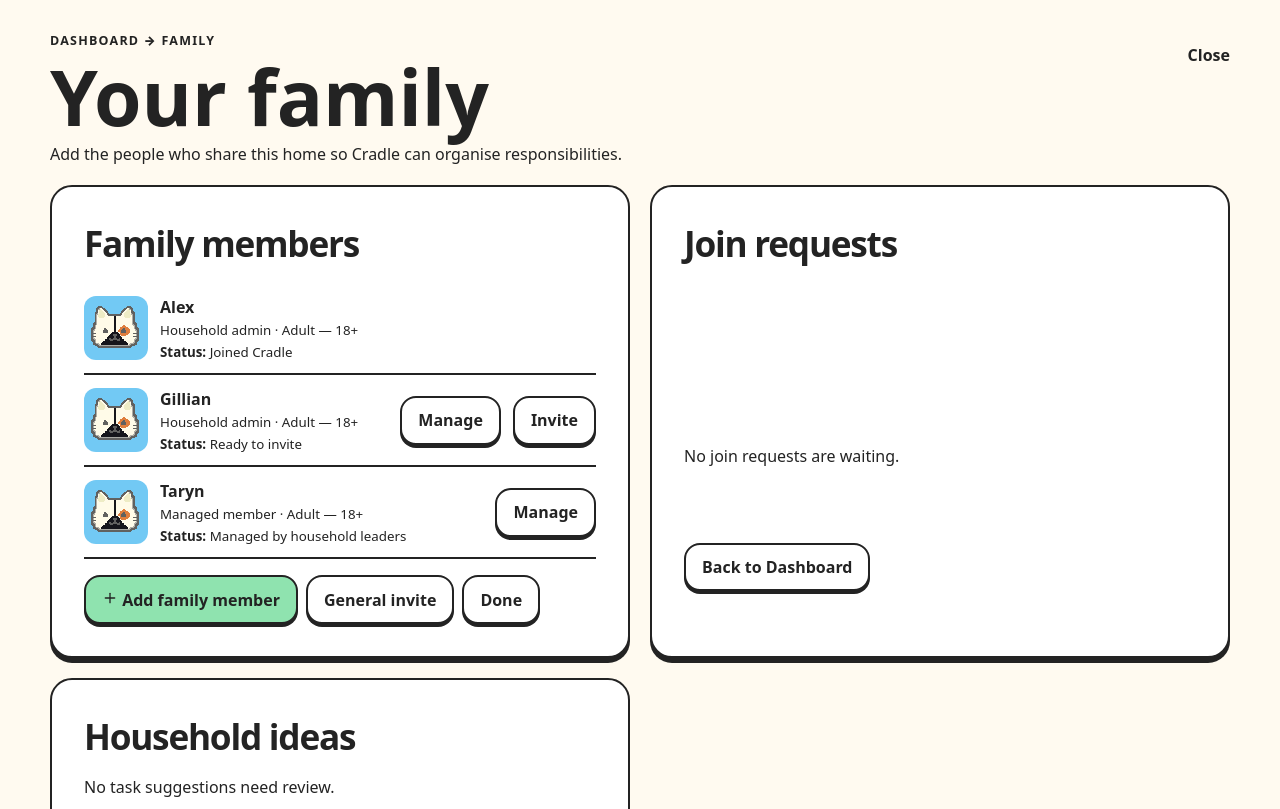
Scenario: family and personal user journeys › presents Add family member permissions as accessible selectable cards
What coordinates should you click on to do the following:
click the button "Add family member"
I would click on:
 (191, 600)
Its box is 84,575 -> 298,624.
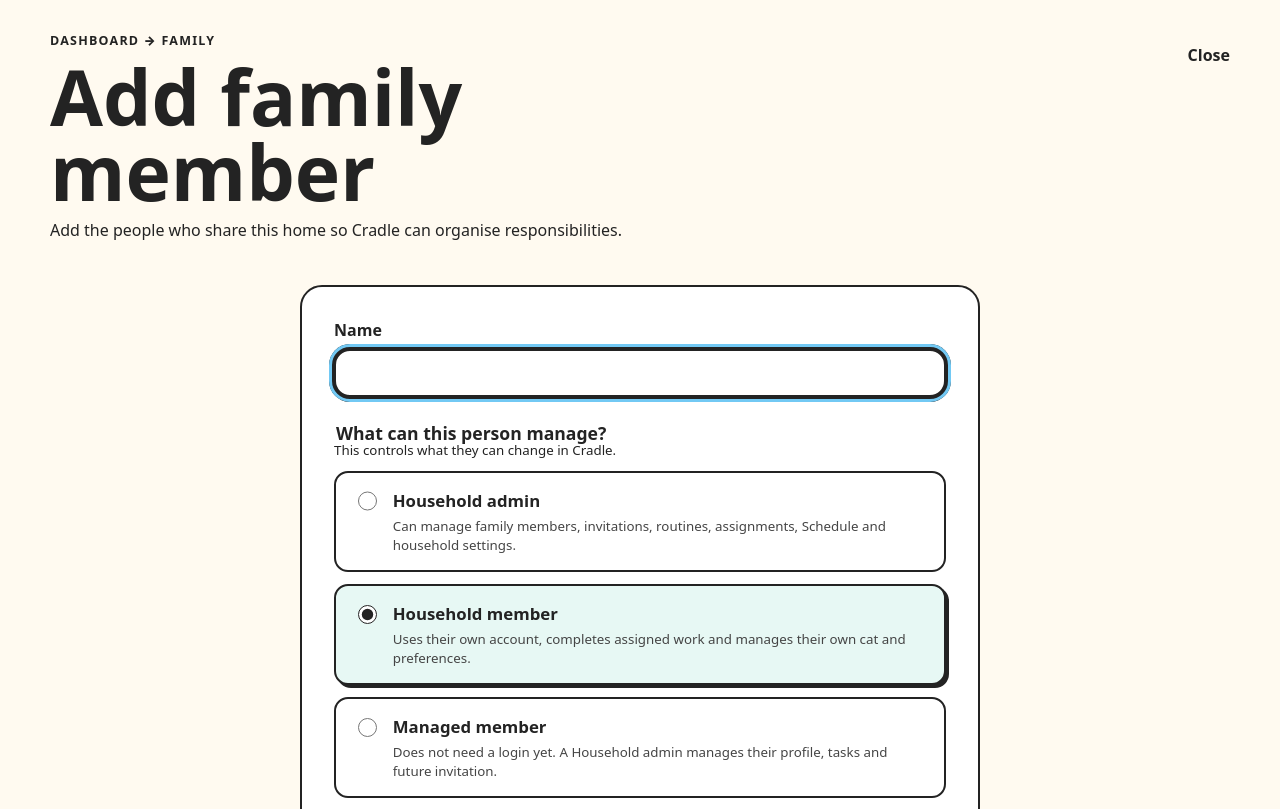
Expected: the number of radio buttons is 3, 358,492 -> 377,511; 358,605 -> 377,624; 358,718 -> 377,737
What coordinates should you click on to do the following:
click the text "Managed member"
I would click on:
 (470, 727)
Its box is 393,715 -> 546,738.
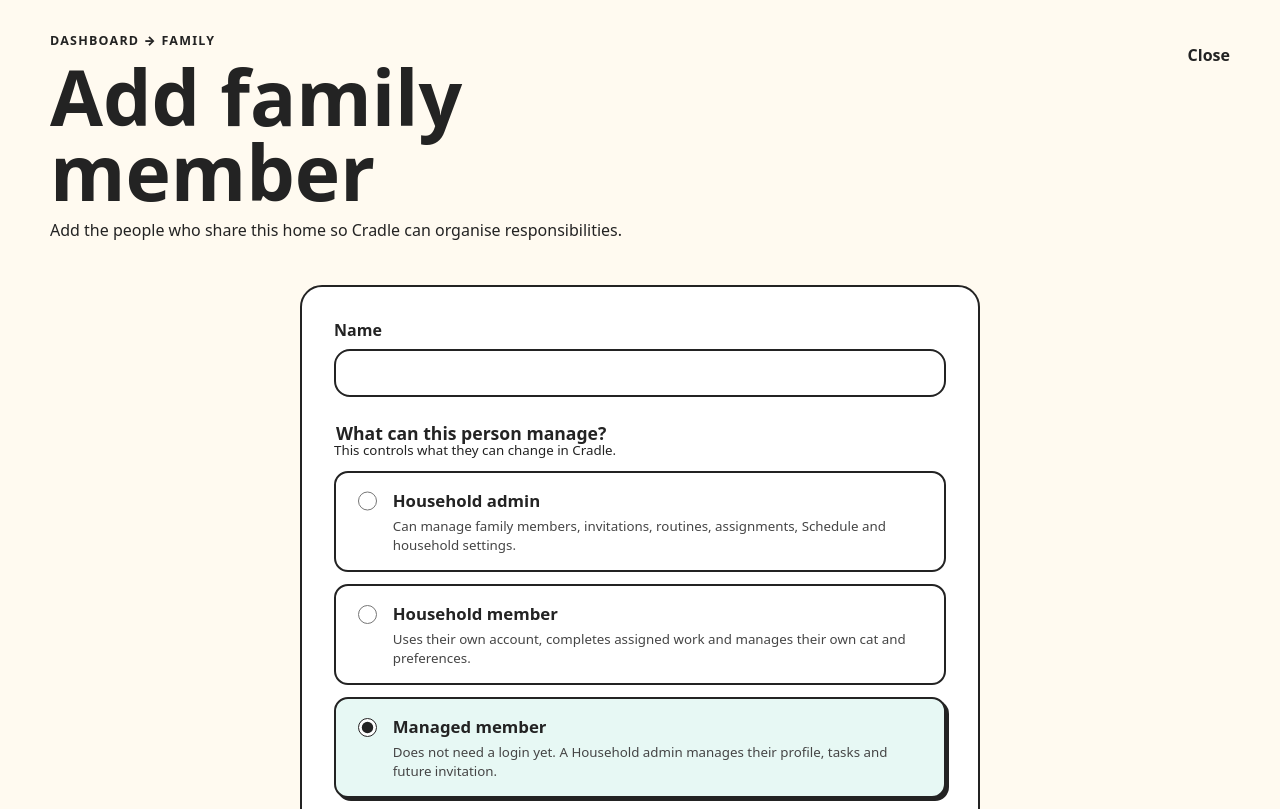
Expected: the 3rd radio button is checked, 358,718 -> 377,737
Expected: the 2nd radio button is not checked, 358,605 -> 377,624
